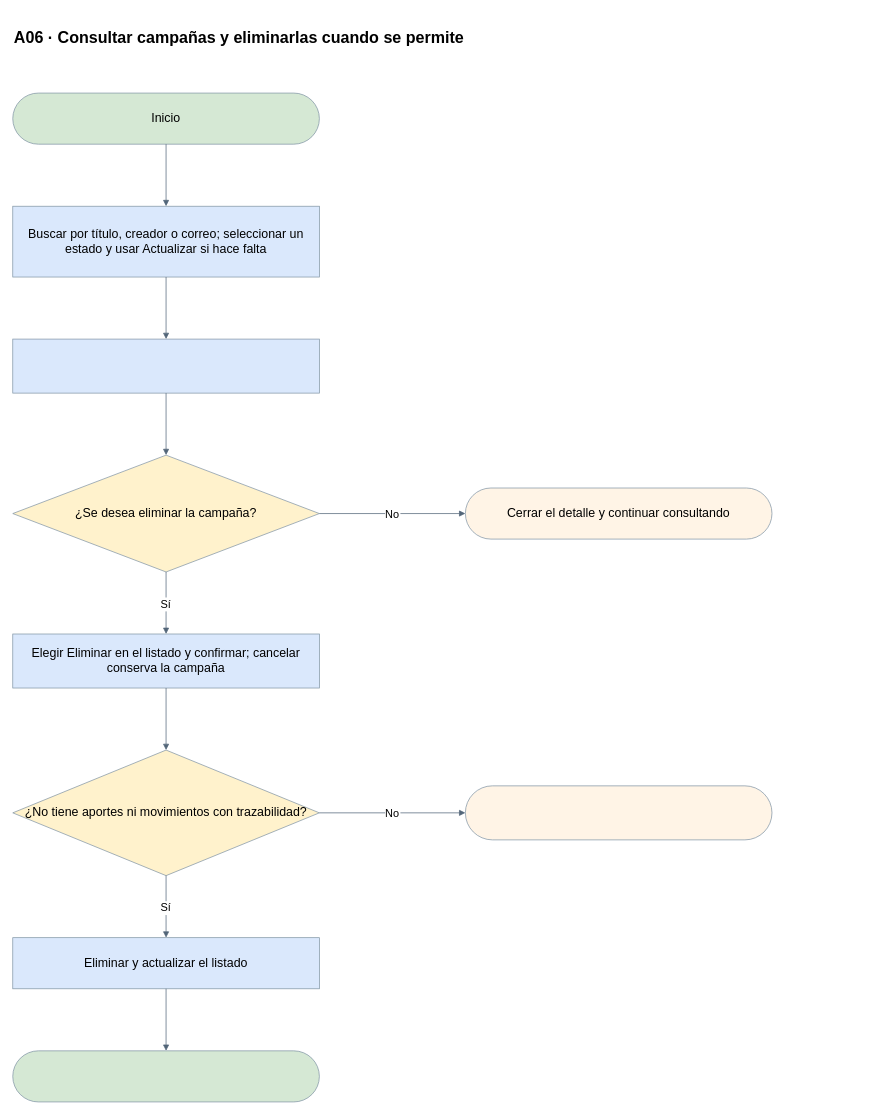
This 887x1115 diagram has some shape labels left out. The shapes that lost their labels are listed below. From the top down, each one's centre as x and y in pixels, then its label:
At (165,365): "Abrir Vista Previa para consultar detalles, progreso, historial y documentos".
At (618,812): "Bloquear la eliminación y conservar el registro".
At (165,1076): "Fin".
